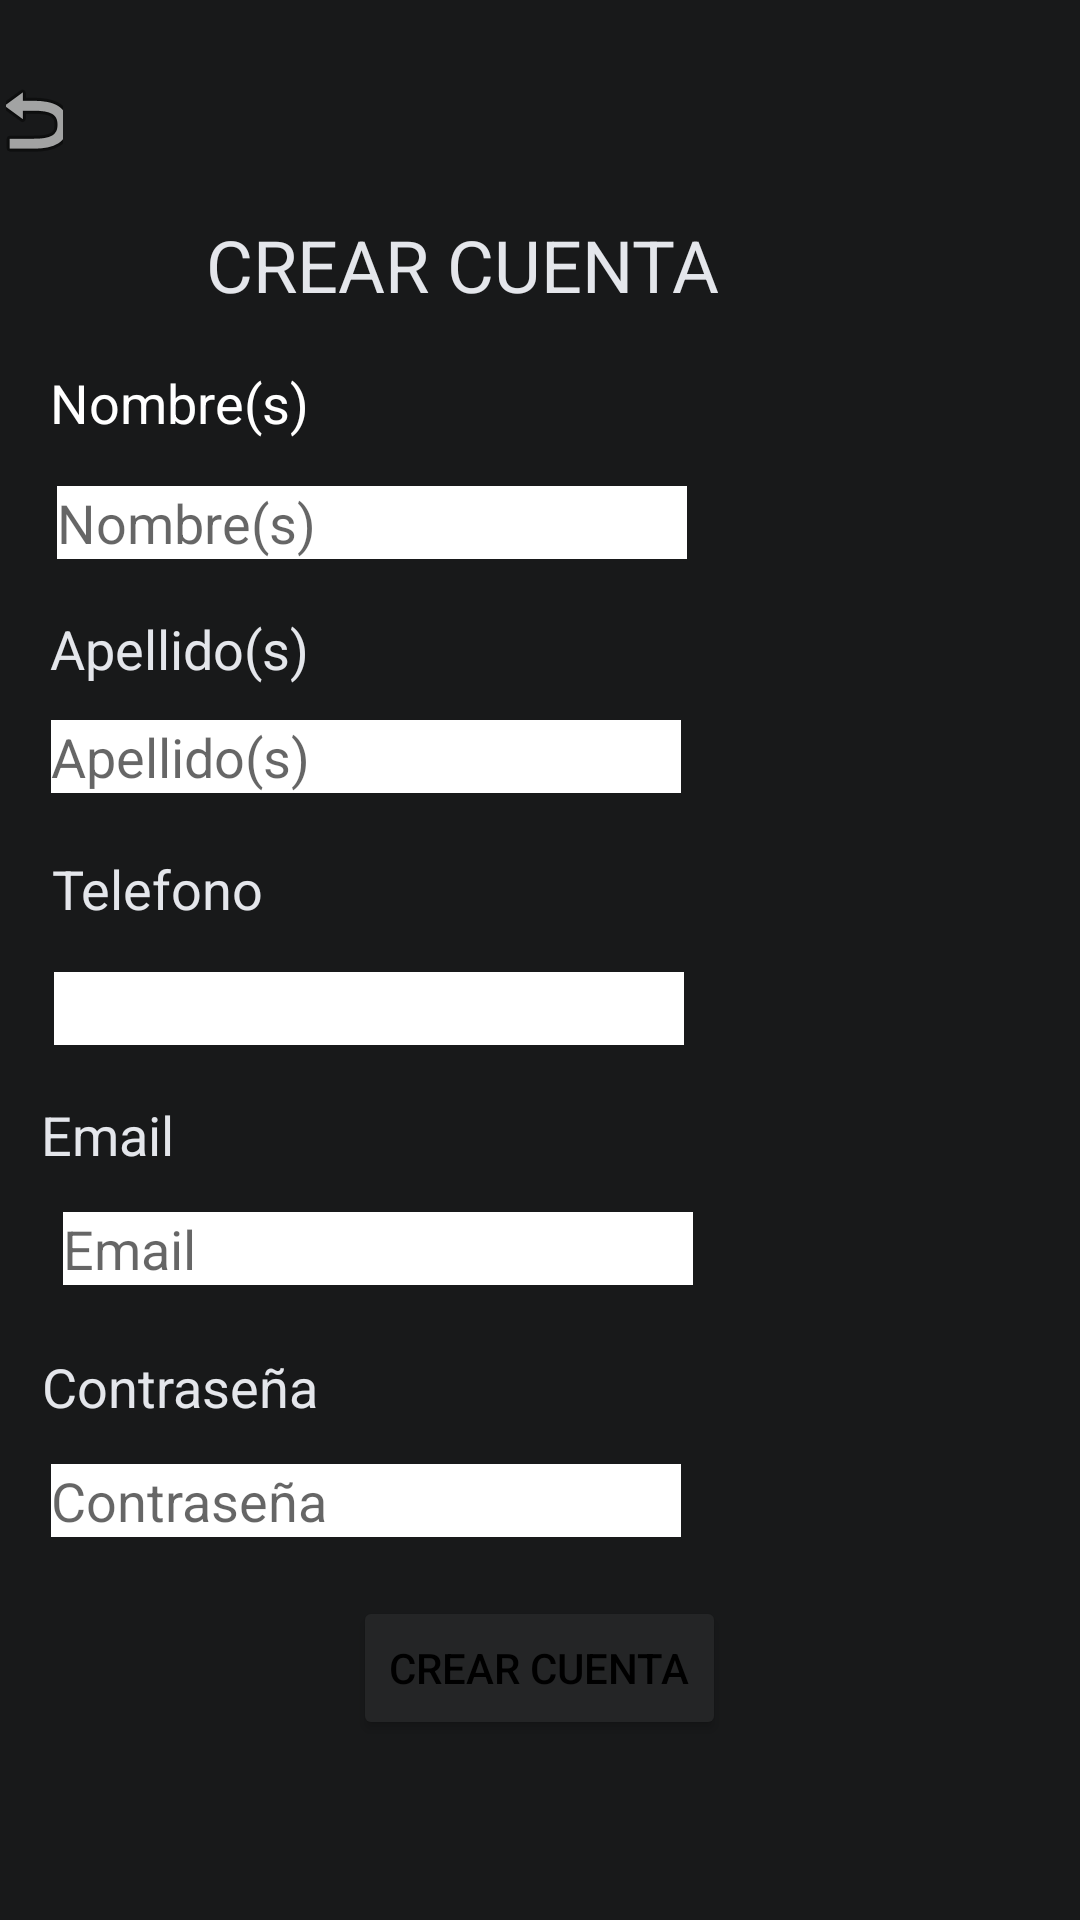

Named icons in this screenshot (1080*1920) and their centers, point (x, y):
revert: point (34, 120)
